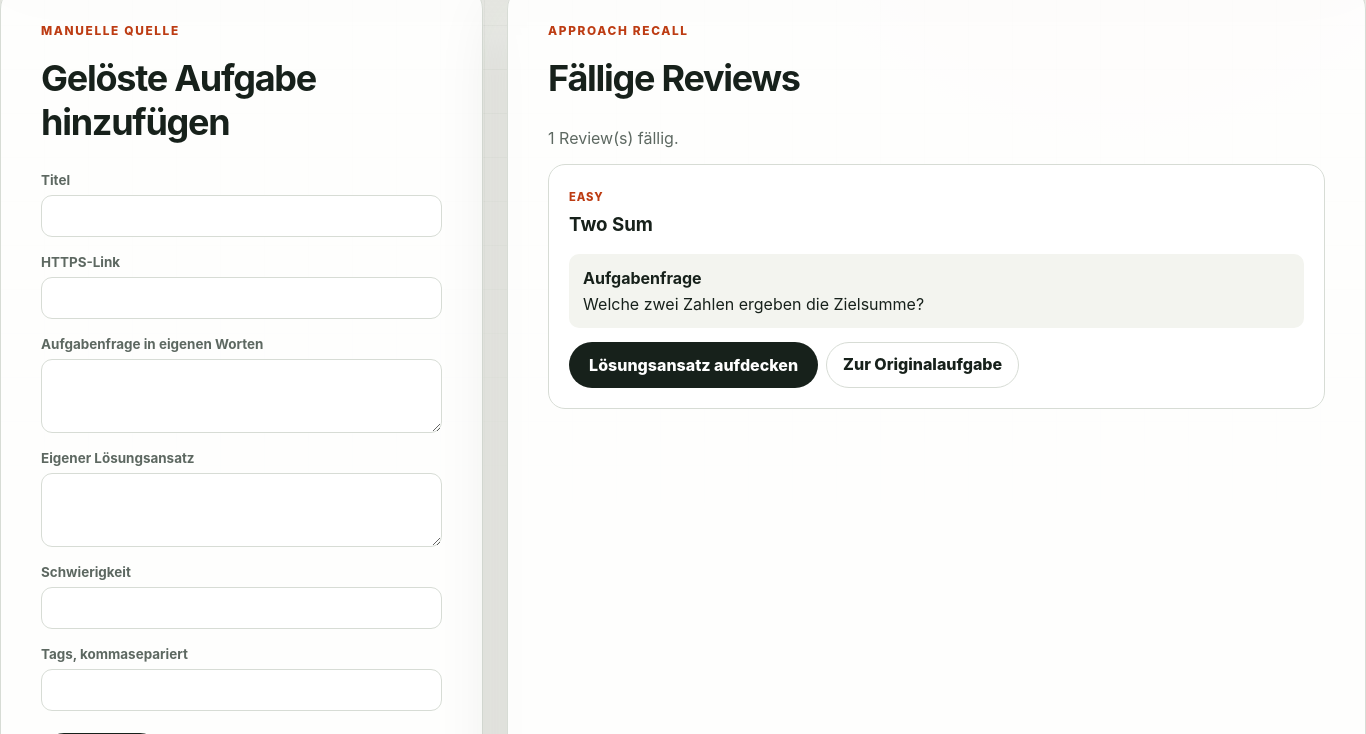
Scenario: LearningDashboard › completes a due ReviewCard and refreshes its immutable history
(page scrolled)
Expected: the heading "Two Sum" is shown, x1=569 y1=213 x2=653 y2=236
Expected: the text "Welche zwei Zahlen ergeben die Zielsumme?" is shown, x1=583 y1=294 x2=924 y2=314
Step 1. Click the button "Lösungsansatz aufdecken" → (694, 365), box x1=569 y1=342 x2=818 y2=388
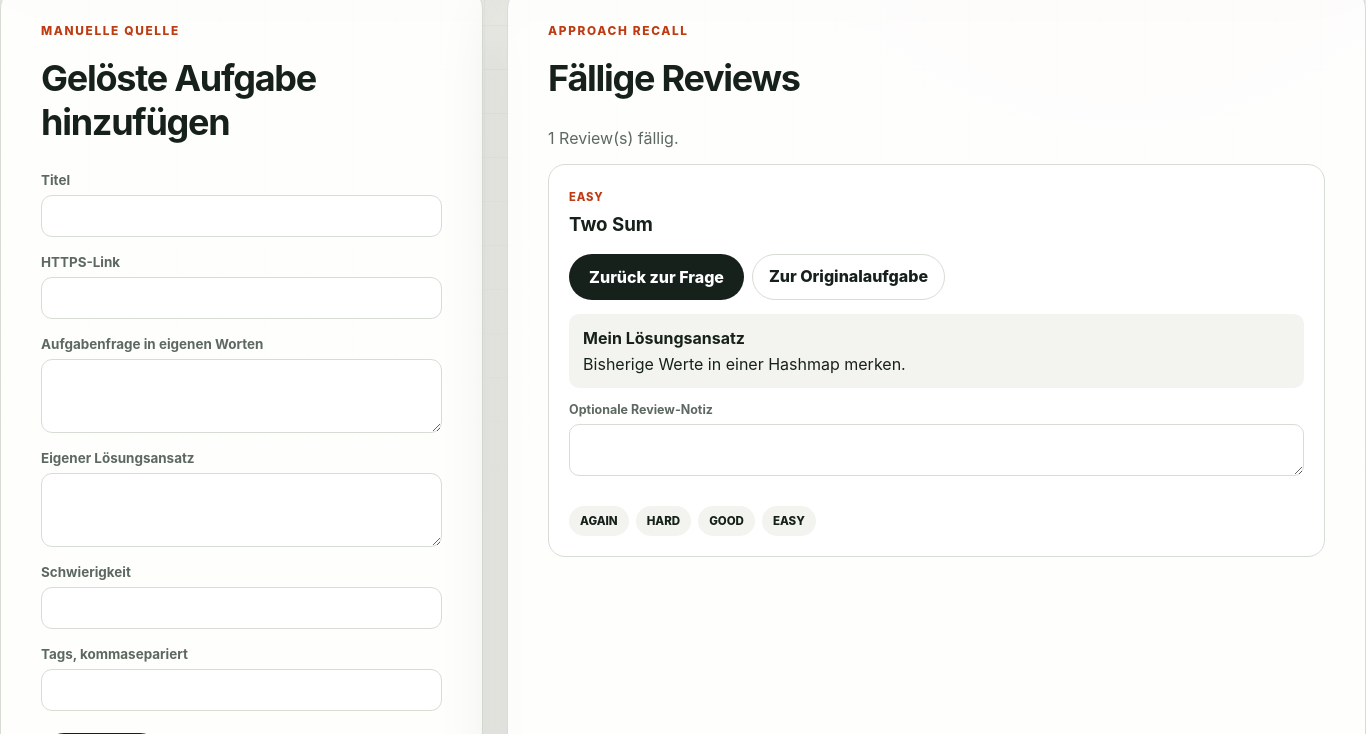
Result: the text "Bisherige Werte in einer Hashmap merken." is shown at x1=583 y1=354 x2=906 y2=374
Step 2. Click the button "Zurück zur Frage" → (657, 277), box x1=569 y1=254 x2=744 y2=300
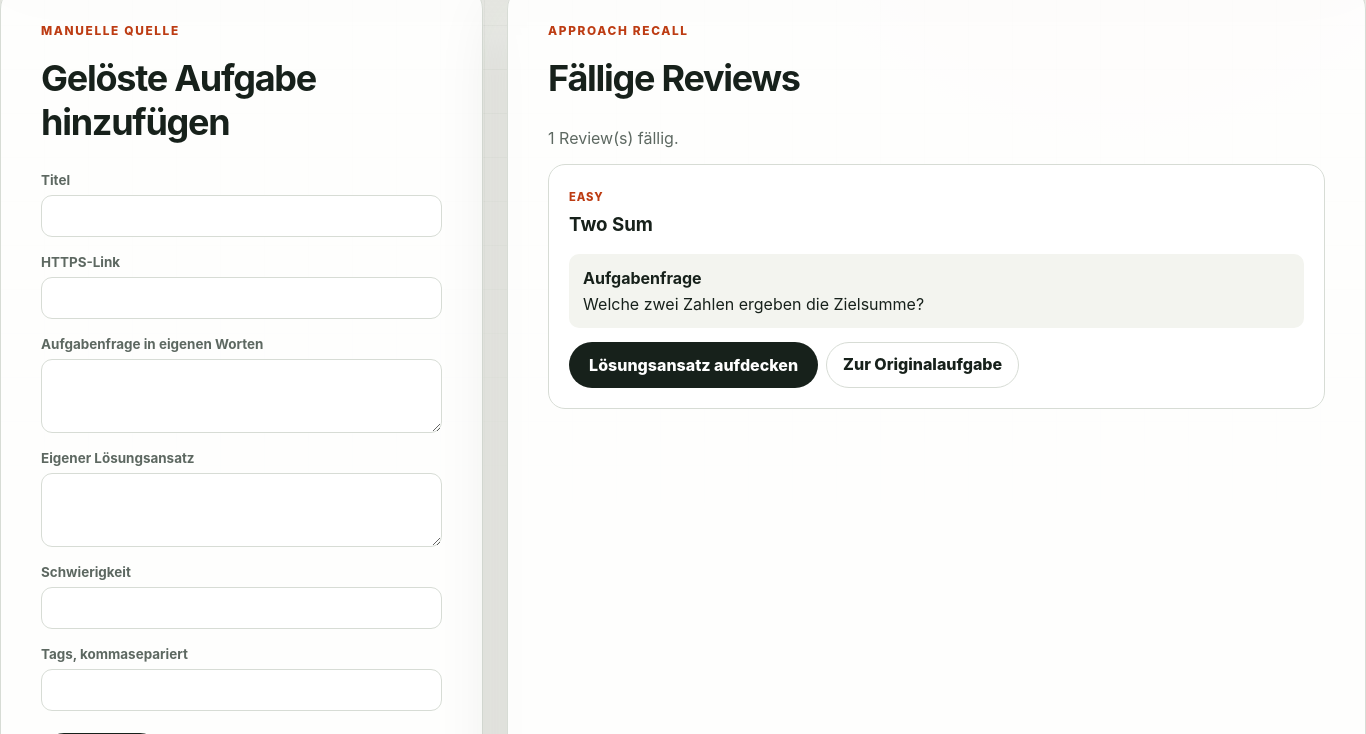
Result: the text "Welche zwei Zahlen ergeben die Zielsumme?" is shown at x1=583 y1=294 x2=924 y2=314
Result: the text "Bisherige Werte in einer Hashmap merken." is gone
Step 3. Click the button "Lösungsansatz aufdecken" → (694, 365), box x1=569 y1=342 x2=818 y2=388
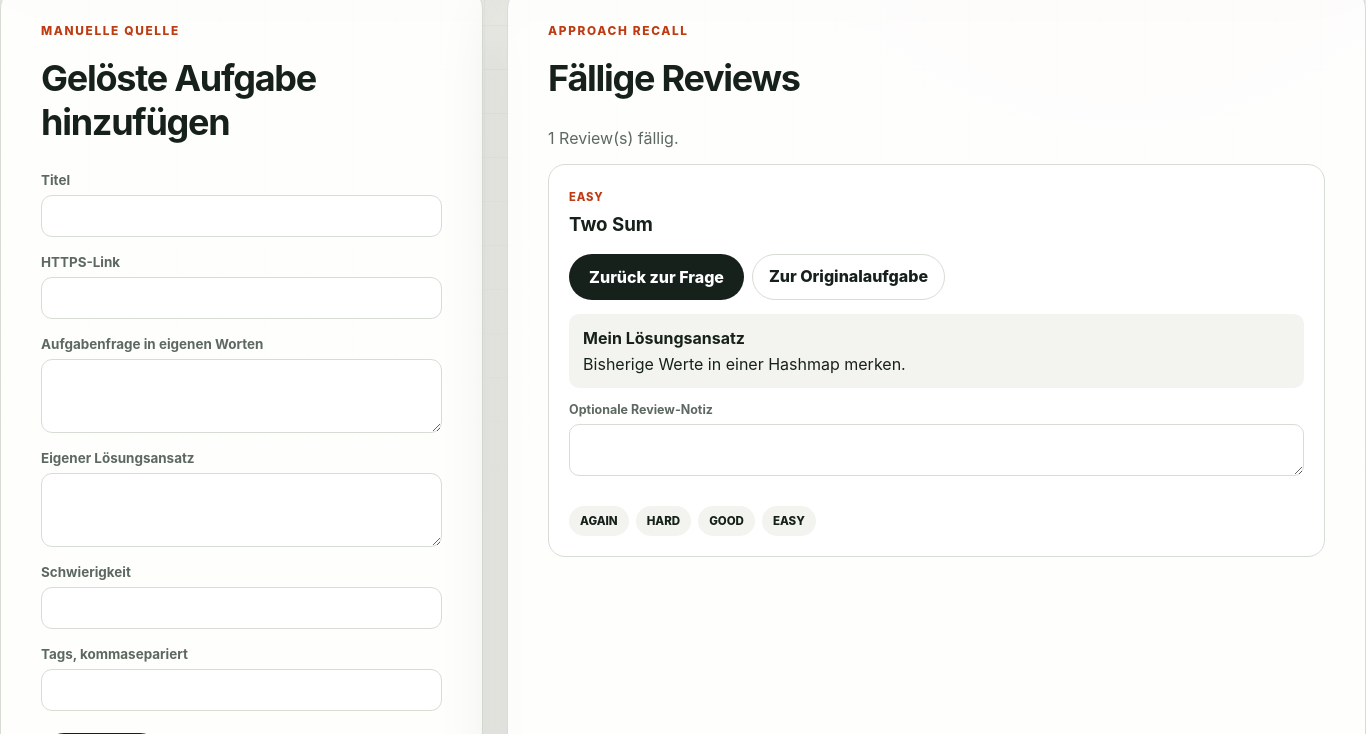
Step 4. Type "Recalled the complement map." into the text box labelled "Optionale Review-Notiz" → (937, 450), box x1=569 y1=424 x2=1304 y2=476
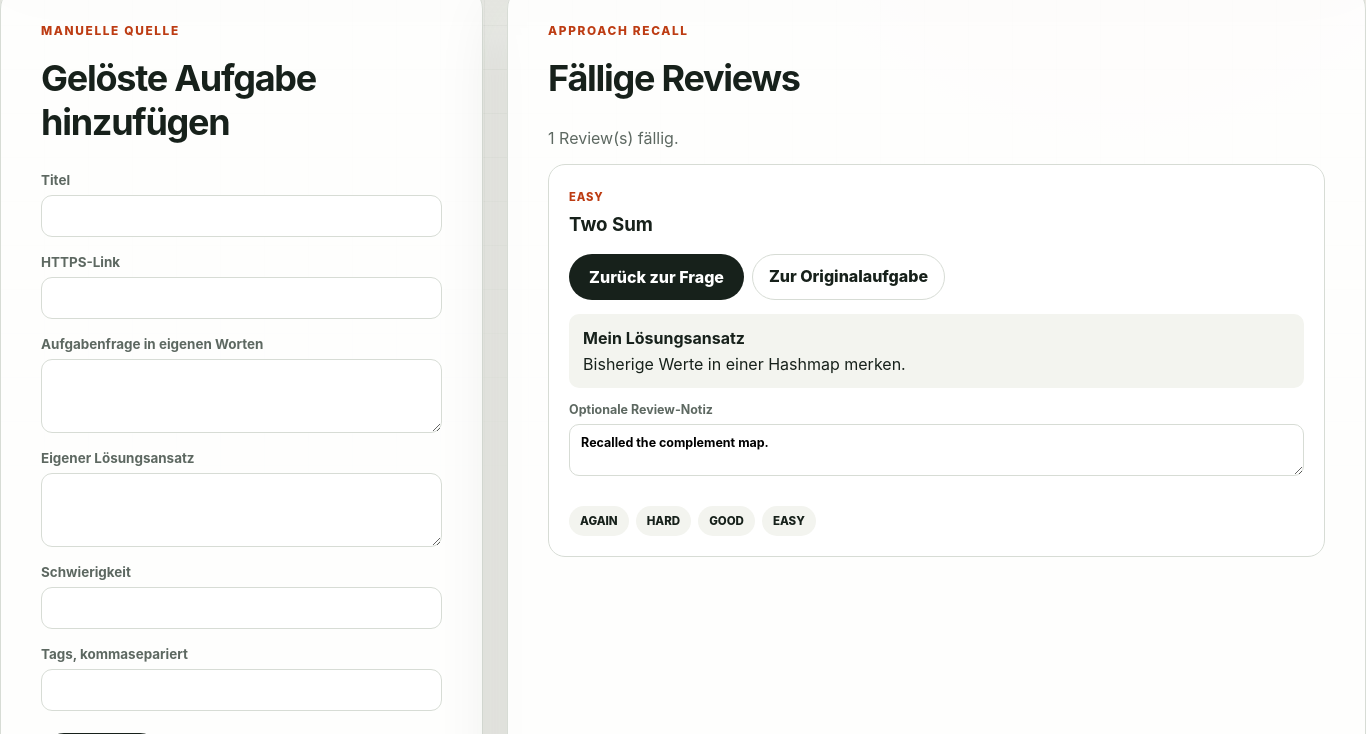
Step 5. Click the button "GOOD" → (726, 521), box x1=698 y1=506 x2=755 y2=536
(page scrolled)
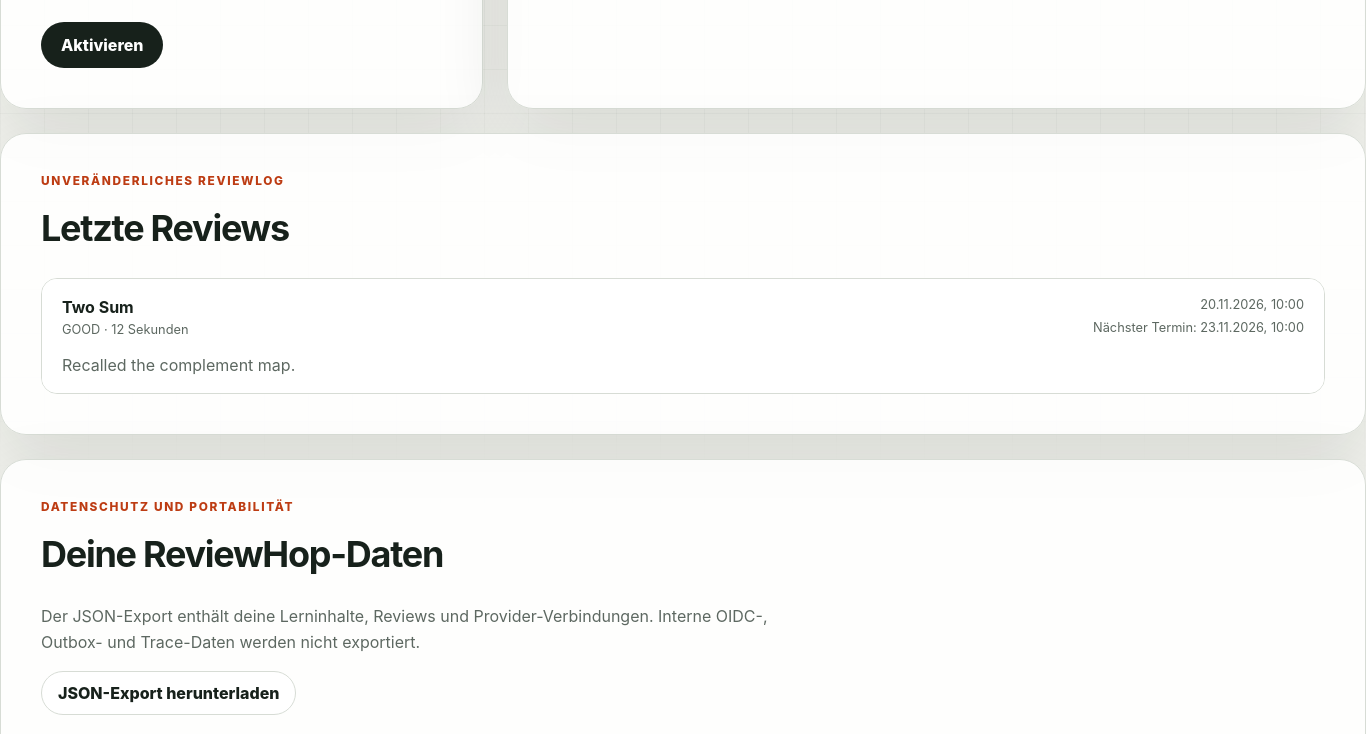
Result: the text "Recalled the complement map." is shown at x1=62 y1=355 x2=295 y2=375
Result: the text "GOOD · 12 Sekunden" is shown at x1=62 y1=322 x2=188 y2=337
